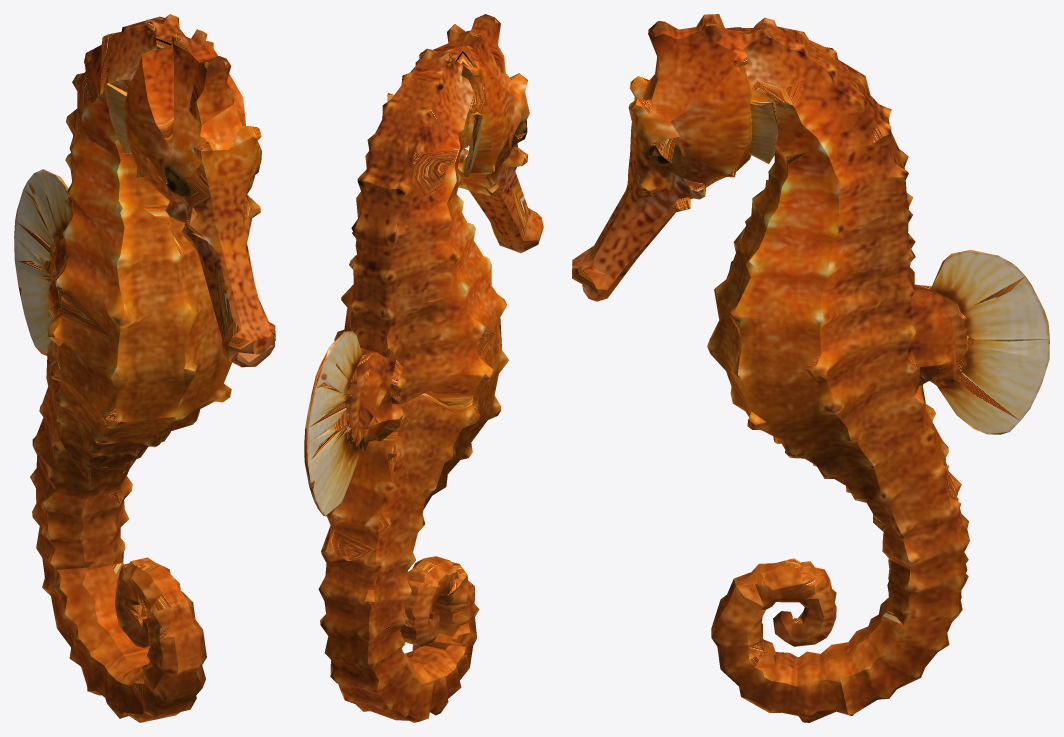
Rendered from denizati.glb.
3 renders of one model, left to right at view 1: azimuth 30°, elevation 25°; view 2: azimuth 150°, elevation 25°; view 3: azimuth 270°, elevation 25°, orthographic. The views are drawn at different scales.
Parts seen in each view (by area): view 1: world; view 2: world; view 3: world.
Part boxes in pixels (box(x1,y1,x2,y2)): world: box(14, 14, 275, 722); world: box(304, 14, 543, 722); world: box(572, 14, 1049, 722).
Bounding box in the file's own units: 0.2507 × 1 × 0.6244.
1 material, 1 textured.
